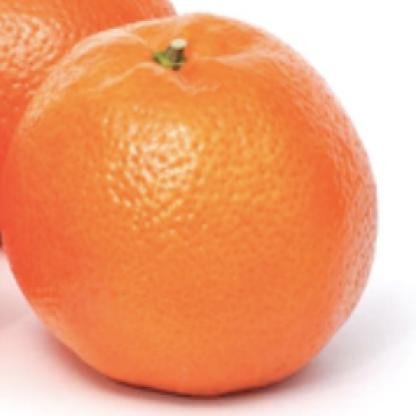fresh: (3, 15, 380, 401)
